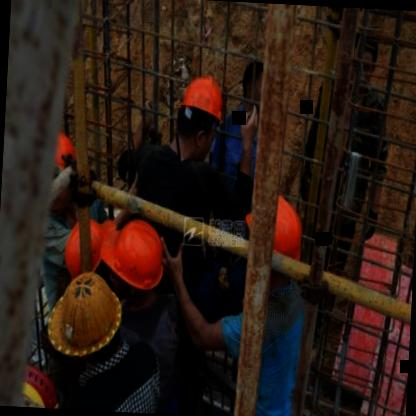head: (346, 24, 386, 99), (237, 54, 278, 122)
helmet: (242, 187, 307, 294), (102, 218, 168, 306), (171, 68, 230, 166), (40, 126, 78, 209)
